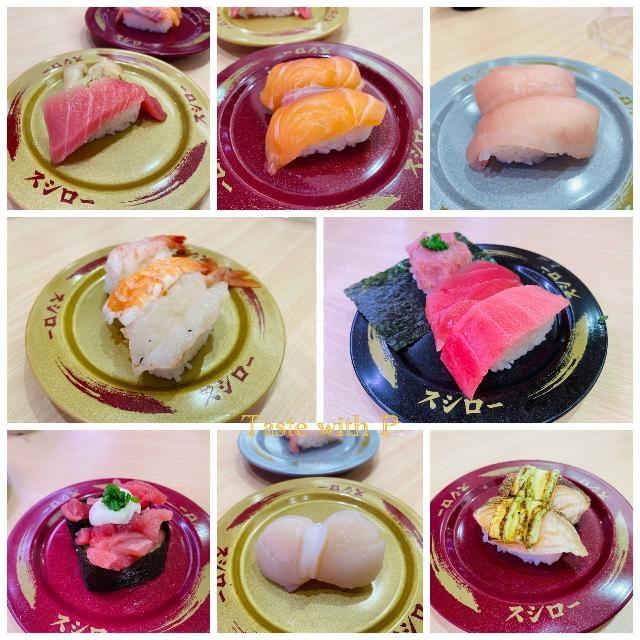janback: (361, 245, 602, 415)
jangold: (22, 246, 310, 401), (11, 61, 224, 223), (227, 495, 421, 628), (214, 14, 363, 49)
janred: (29, 462, 223, 640), (444, 451, 615, 625), (251, 52, 423, 201), (83, 2, 212, 70)
janwhite: (446, 69, 636, 214), (232, 429, 383, 479)
